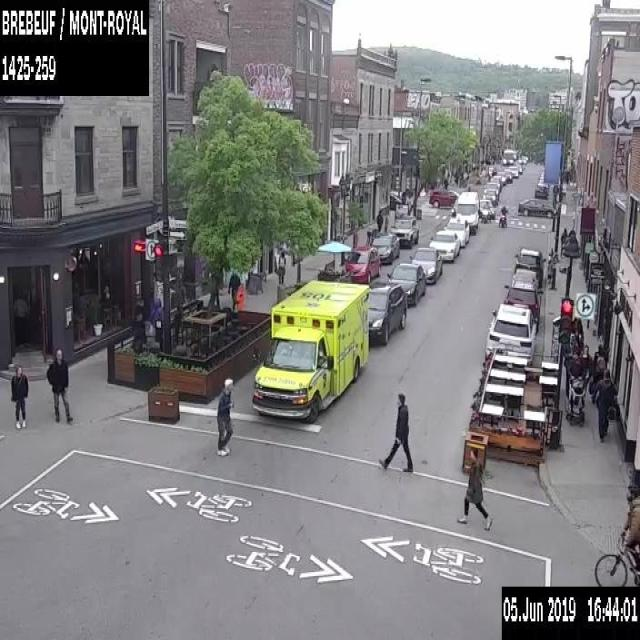bus: (502, 147, 514, 163)
cyclist: (594, 483, 639, 584)
pedestrian: (377, 392, 414, 472), (457, 446, 492, 530), (44, 347, 72, 422), (564, 349, 589, 424), (216, 377, 234, 456), (594, 373, 614, 441), (9, 362, 29, 429), (227, 268, 241, 312), (276, 250, 286, 282), (559, 225, 567, 264), (376, 208, 384, 233)
vehicle: (251, 280, 368, 420), (351, 282, 406, 345), (484, 304, 540, 358), (502, 268, 544, 326), (387, 262, 424, 305), (344, 243, 378, 283), (512, 246, 544, 288), (411, 245, 440, 283), (387, 215, 417, 248), (368, 232, 398, 265), (429, 229, 459, 262), (455, 190, 478, 232), (517, 196, 553, 217), (444, 217, 469, 246), (428, 189, 461, 208), (475, 198, 495, 220), (388, 191, 403, 209), (482, 189, 497, 204), (534, 182, 548, 198), (483, 182, 497, 197), (498, 205, 507, 227), (489, 177, 501, 191), (496, 170, 506, 184), (502, 168, 512, 182), (508, 165, 518, 177)
